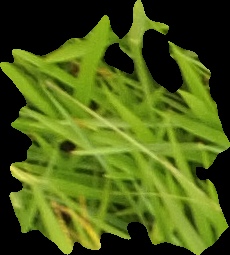grass: (1, 1, 228, 254)
